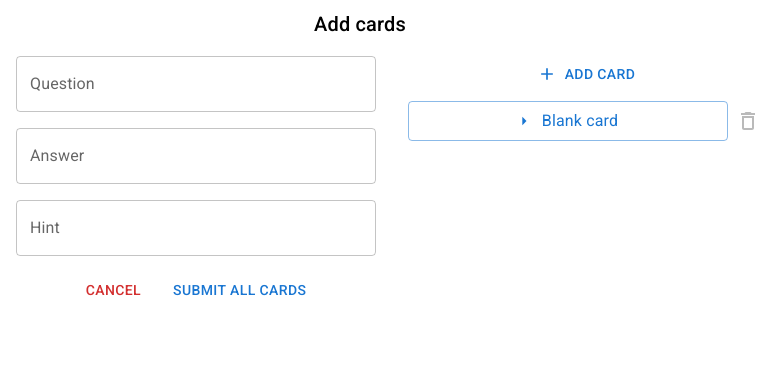
Test: card form component › should disable submit button after clicking submit on empty form
Click the button "Submit all cards": [240, 290] box [165,272,314,308]
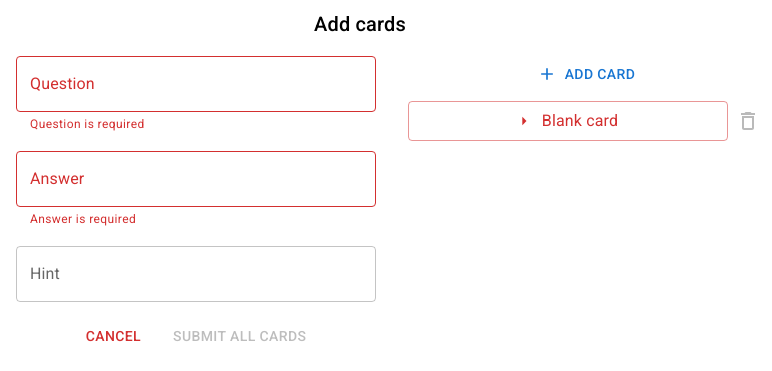
Expected: the button "Submit all cards" is disabled, [165,318,314,354]
